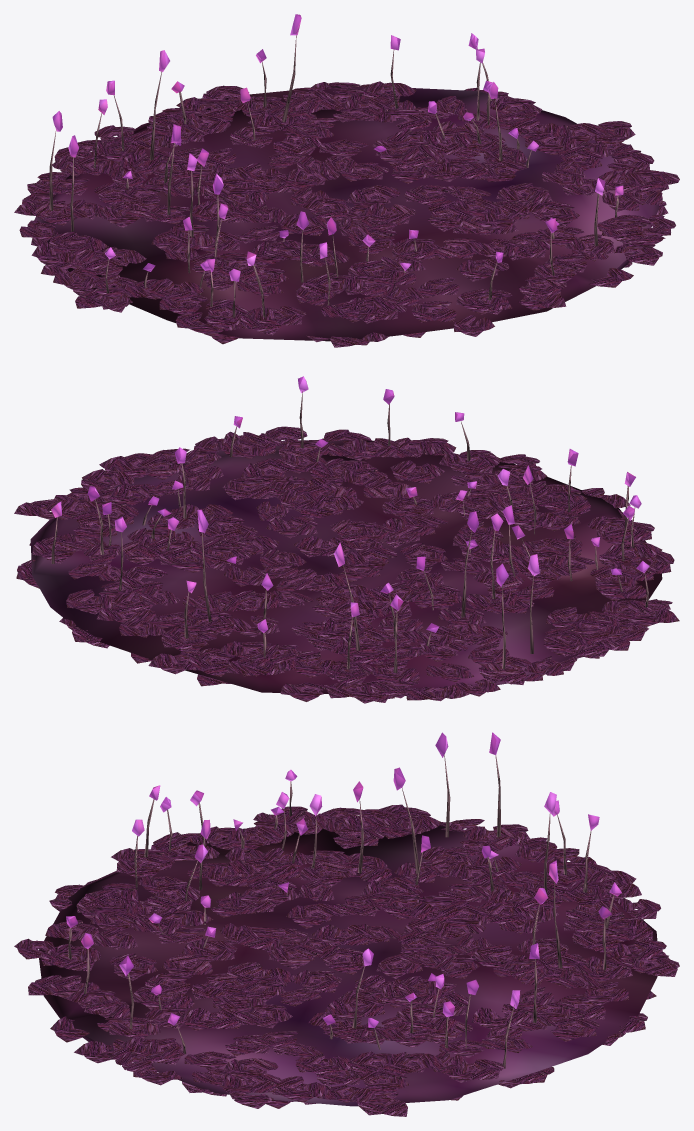
File: moss_00.glb
The picture shows the model from 3 angles, top to bottom: view 1: azimuth 30°, elevation 25°; view 2: azimuth 150°, elevation 25°; view 3: azimuth 270°, elevation 25°; orthographic projection. The views are drawn at different scales.
Visible parts, largest first — view 1: export; view 2: export; view 3: export.
Part boxes in pixels (bbox=[...]): export: bbox=[14, 14, 679, 347]; export: bbox=[14, 376, 679, 703]; export: bbox=[14, 732, 679, 1116].
Size of the model in its own units: 2.17 by 0.4629 by 1.96.
3 materials, 3 textured.
